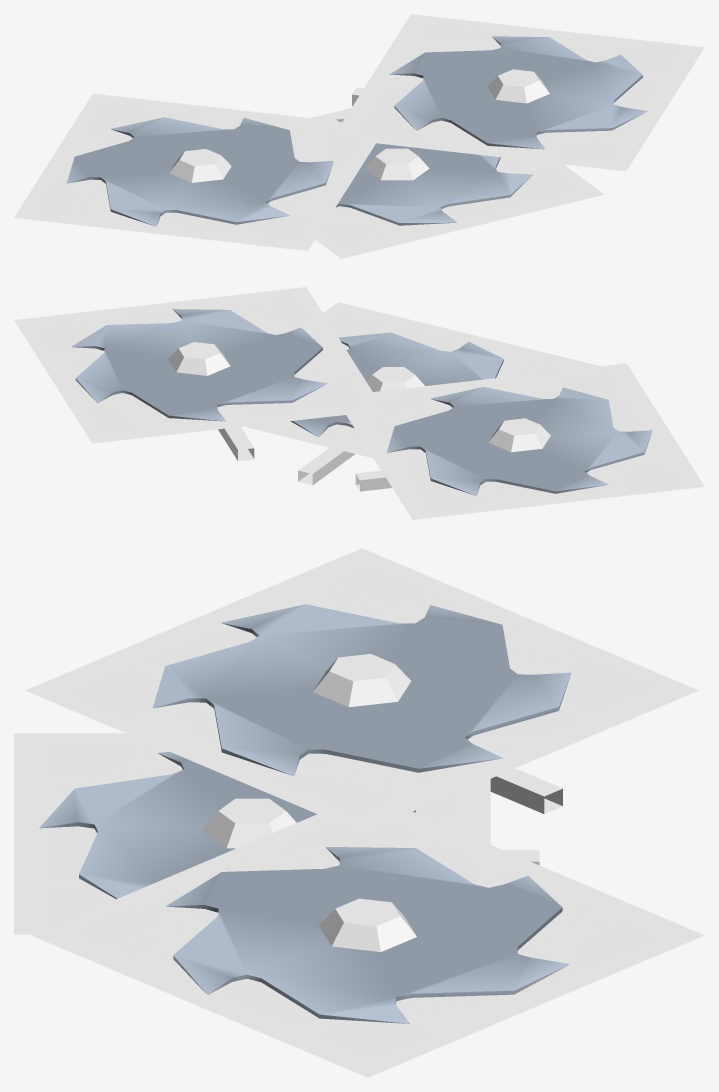
Rendered from saw 5.FBX.
3 renders of one model, top to bottom at view 1: azimuth 30°, elevation 25°; view 2: azimuth 150°, elevation 25°; view 3: azimuth 270°, elevation 25°, orthographic. The views are drawn at different scales.
Visible parts, largest first — view 1: Saw_Wind_FX_2, Saw_Wind_FX_1, Saw_6_5, Saw_6_3, Saw_Wind_FX, Saw_6_1, Saw_6_cell, Saw_6_cell_1, Saw_6_cell_2; view 2: Saw_Wind_FX_2, Saw_Wind_FX_1, Saw_6_5, Saw_6_3, Saw_Wind_FX, Saw_6_1, Saw_6_cell_2, Saw_6_cell_1, Mounting_Saw, Saw_6_cell, Mounting_Saw_2, Mounting_Saw_1; view 3: Saw_Wind_FX_1, Saw_Wind_FX_2, Saw_6_5, Saw_6_3, Saw_Wind_FX, Saw_6_1, Saw_6_cell_2, Saw_6_cell_1, Saw_6_cell, Mounting_Saw_1.
Part boxes in pixels (x1=…): Saw_Wind_FX_2: x1=333, y1=14, x2=704, y2=171; Saw_Wind_FX_1: x1=14, y1=93, x2=380, y2=250; Saw_6_5: x1=389, y1=36, x2=647, y2=149; Saw_6_3: x1=66, y1=117, x2=333, y2=226; Saw_Wind_FX: x1=310, y1=108, x2=604, y2=258; Saw_6_1: x1=335, y1=118, x2=532, y2=225; Saw_6_cell: x1=364, y1=148, x2=429, y2=180; Saw_6_cell_1: x1=169, y1=149, x2=231, y2=182; Saw_6_cell_2: x1=487, y1=69, x2=549, y2=103; Saw_Wind_FX_2: x1=14, y1=287, x2=384, y2=443; Saw_Wind_FX_1: x1=337, y1=363, x2=704, y2=519; Saw_6_5: x1=71, y1=309, x2=327, y2=421; Saw_6_3: x1=386, y1=387, x2=652, y2=495; Saw_Wind_FX: x1=244, y1=302, x2=599, y2=457; Saw_6_1: x1=290, y1=332, x2=503, y2=437; Saw_6_cell_2: x1=168, y1=342, x2=230, y2=375; Saw_6_cell_1: x1=488, y1=418, x2=550, y2=452; Mounting_Saw: x1=298, y1=447, x2=354, y2=485; Saw_6_cell: x1=366, y1=367, x2=424, y2=391; Mounting_Saw_2: x1=218, y1=427, x2=254, y2=461; Mounting_Saw_1: x1=355, y1=470, x2=391, y2=491; Saw_Wind_FX_1: x1=25, y1=548, x2=698, y2=832; Saw_Wind_FX_2: x1=31, y1=812, x2=704, y2=1077; Saw_6_5: x1=165, y1=847, x2=570, y2=1023; Saw_6_3: x1=152, y1=604, x2=571, y2=775; Saw_Wind_FX: x1=14, y1=733, x2=490, y2=934; Saw_6_1: x1=39, y1=751, x2=415, y2=899; Saw_6_cell_2: x1=318, y1=898, x2=416, y2=951; Saw_6_cell_1: x1=313, y1=654, x2=410, y2=707; Saw_6_cell: x1=201, y1=798, x2=296, y2=848; Mounting_Saw_1: x1=490, y1=768, x2=562, y2=814.
Bounding box in the file's own units: 576 × 42.93 × 317.
